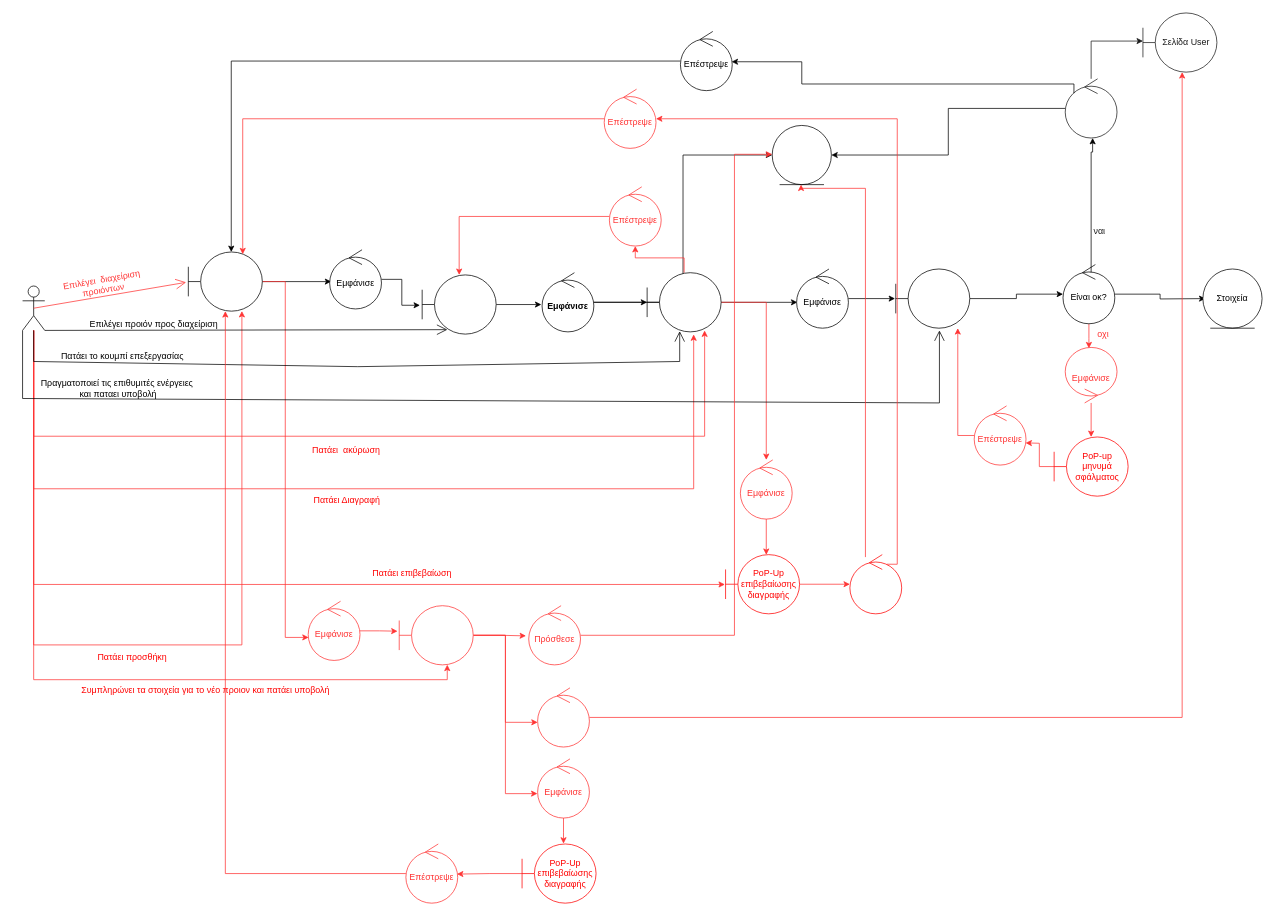
Some shapes in this 1275 by 916 pixel diagram are drawn without their labels. The centre of each missing label's shape, as x and y in pixels:
"Admin" goes at [33,307].
"Pop up με λεπτομέριες" goes at [683,302].
"Αφαίρεσε" goes at [875,584].
"Ενημέρωσε" goes at [563,717].
"Ενημερωσε" goes at [1090,108].
"Λίστα με προιόντα" goes at [458,304].
"Μενού με ενέργεις διαχείρισης" goes at [225,281].
"Προιόντα" goes at [801,155].
"Φόρμα επεξεργασίας" goes at [932,298].
"Φόρμα νέου προιοντος" goes at [435,635].
